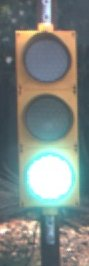Green: (14, 13, 85, 222)
